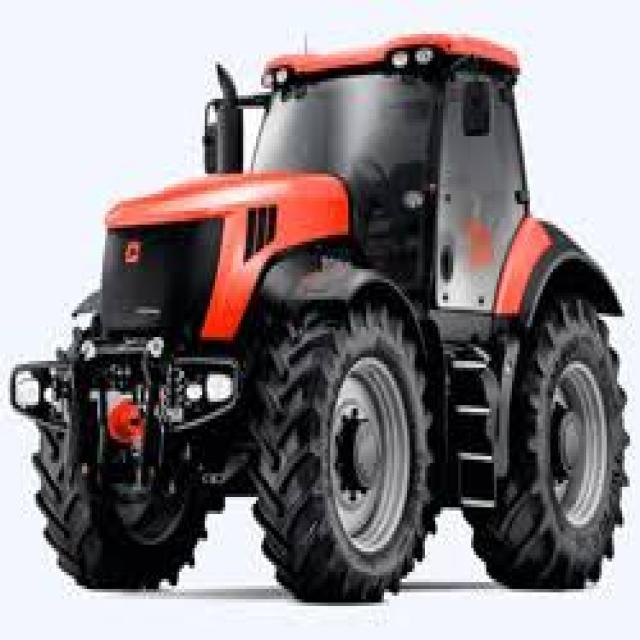Tratores - v5 YOLO V8L 2024-11-13: (12, 42, 638, 608)
